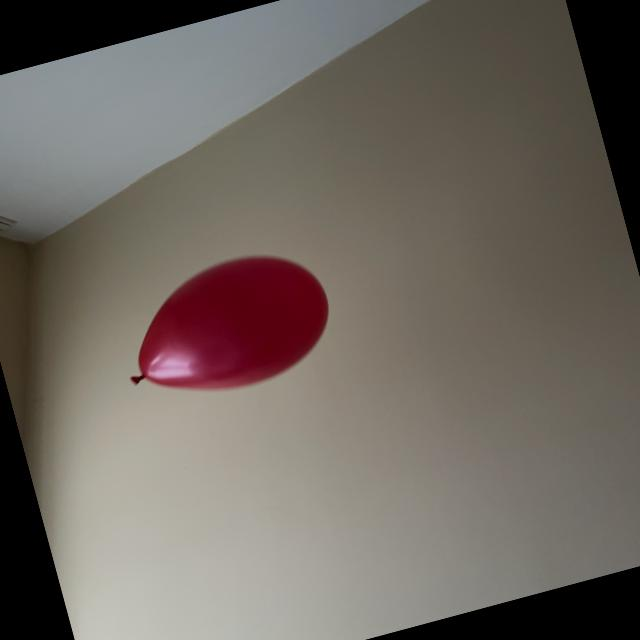balloon: (131, 256, 328, 389)
